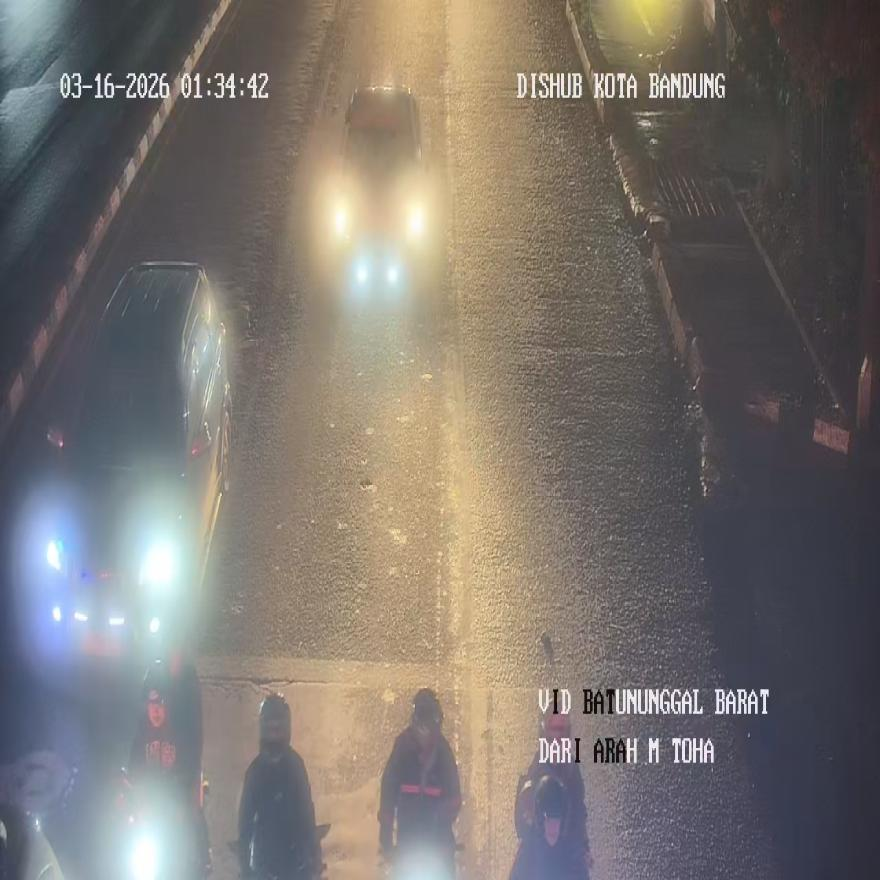Motor: (12, 262, 234, 660), (315, 86, 439, 299)
Truk: (103, 774, 210, 879), (382, 843, 464, 879), (252, 841, 326, 879)
